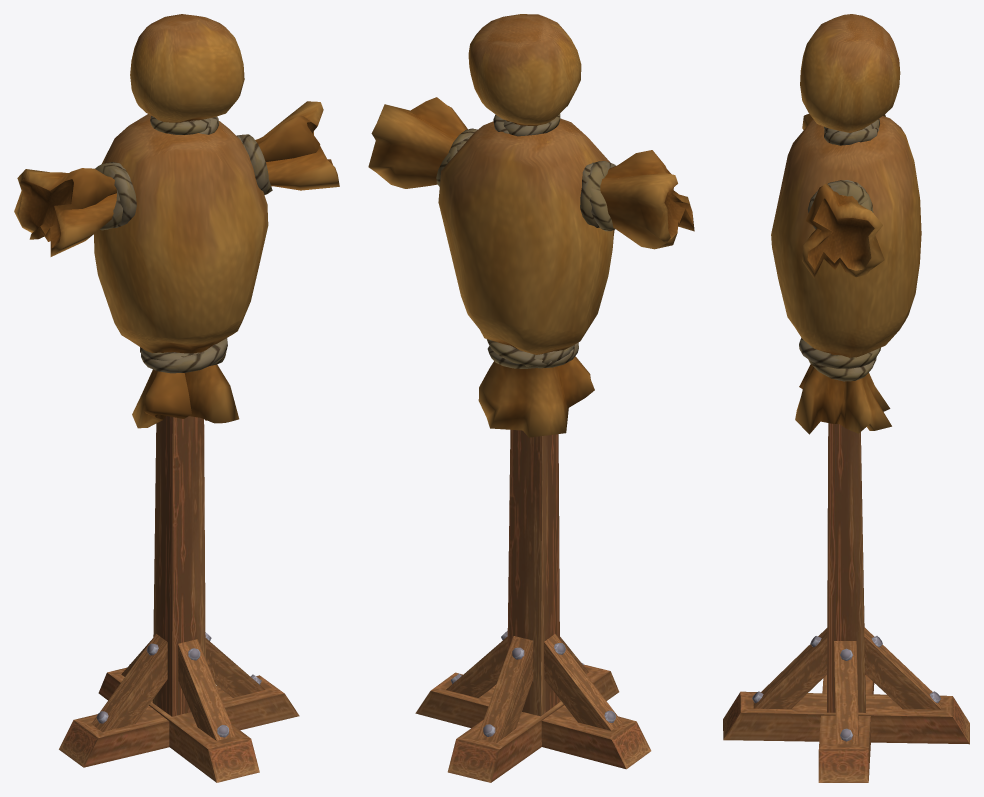
The model's file is Dummy.gltf.
3 renders of one model, left to right at view 1: azimuth 30°, elevation 25°; view 2: azimuth 150°, elevation 25°; view 3: azimuth 270°, elevation 25°, orthographic.
Parts seen in each view (by area): view 1: Dummy; view 2: Dummy; view 3: Dummy.
Boxes of the visible parts, x1,y1,x2,y2 form: Dummy: (14,14,339,782); Dummy: (368,14,694,782); Dummy: (723,14,969,782).
Size of the model in its own units: 0.8085 by 1.86 by 0.5846.
Materials: 3 (3 with a texture image).
